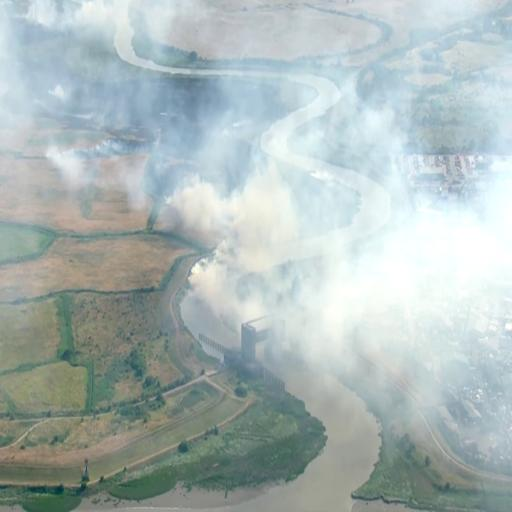smoke: (219, 165, 287, 236), (176, 182, 226, 236)
